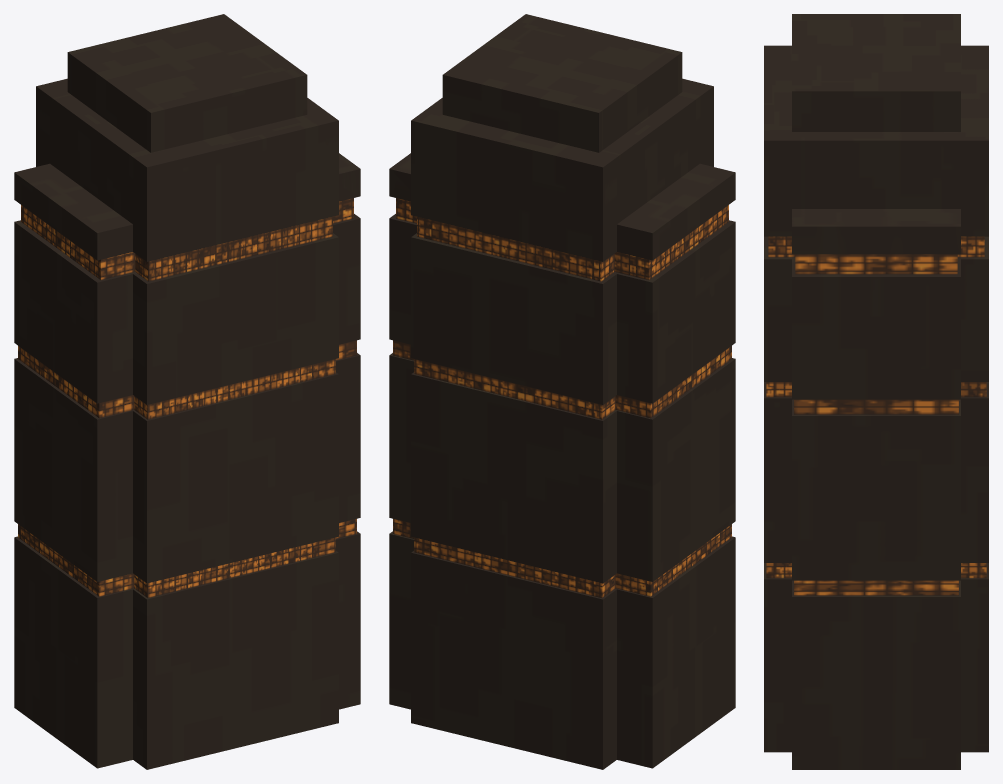
Rendered from BuildingTall.fbx.
3 views of the same model, side by side, from view 1: azimuth 30°, elevation 25°; view 2: azimuth 150°, elevation 25°; view 3: azimuth 270°, elevation 25° (orthographic).
Parts seen in each view (by area): view 1: BuildingTall; view 2: BuildingTall; view 3: BuildingTall.
Boxes of the visible parts, box(x1,y1,x2,y2) form: BuildingTall: box(14, 14, 360, 769); BuildingTall: box(389, 14, 735, 769); BuildingTall: box(764, 14, 988, 769).
Size of the model in its own units: 656 by 1529 by 478.
